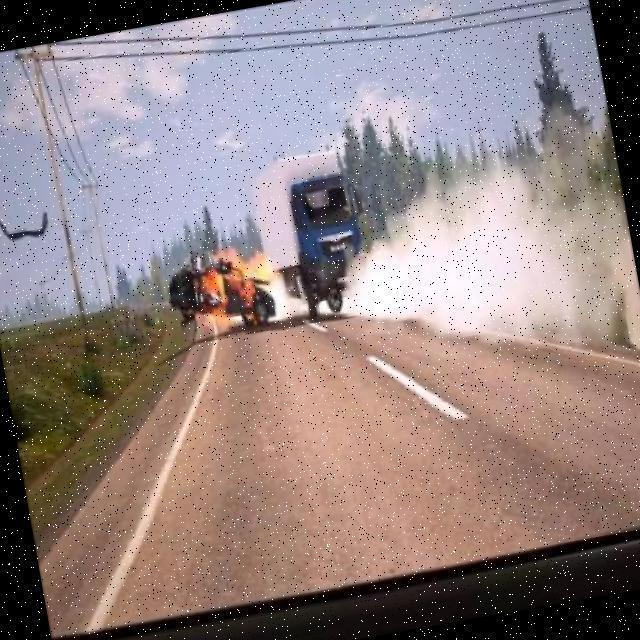accident: (137, 139, 385, 353)
